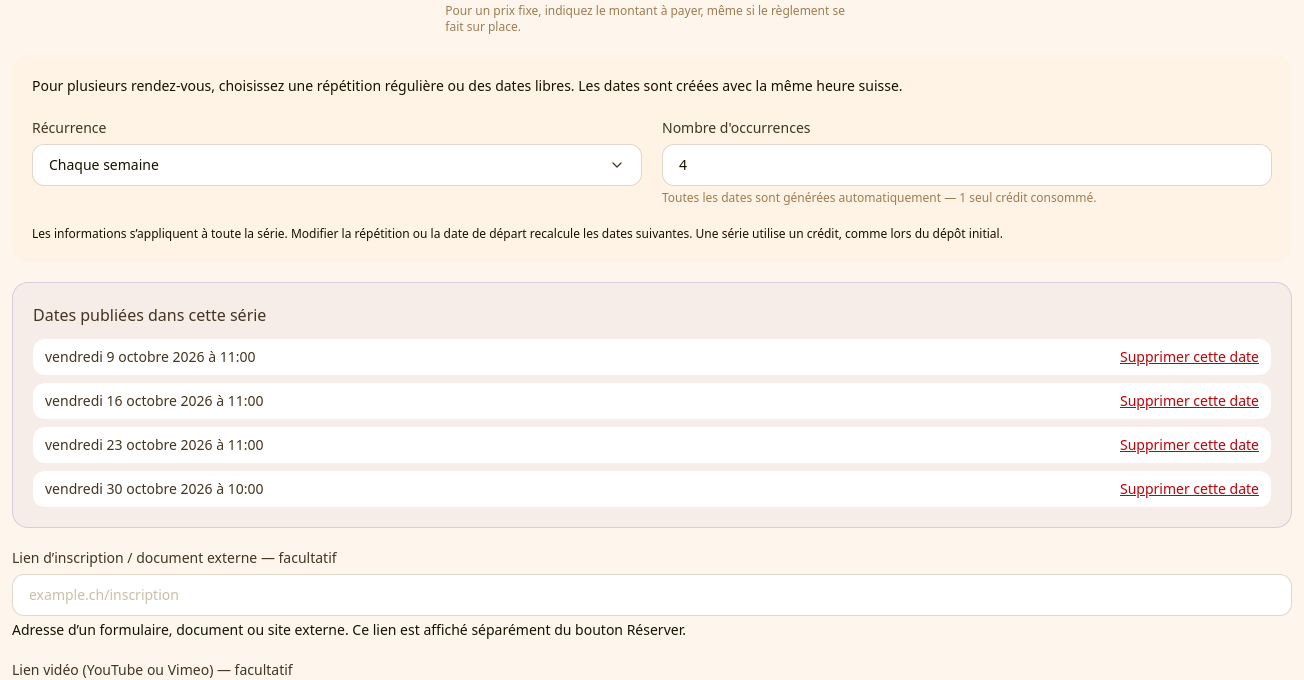
Test case: Régressions signalées par Didier › permet deux suppressions successives de dates sans faux brouillon bloquant
(page scrolled)
Click the button "Supprimer cette date" in the row of "vendredi 16 octobre 2026 à 11:00": (1190,401) [1120,391,1259,411]
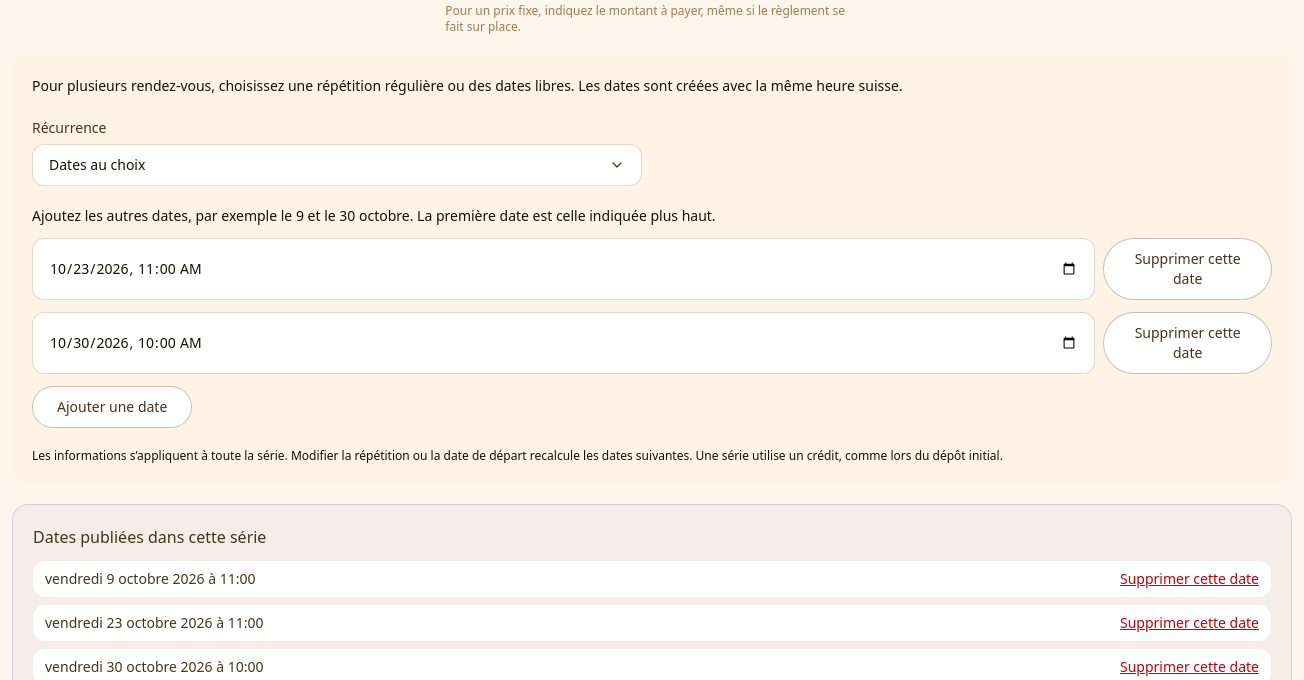
Expected: the number of buttons "Supprimer cette date" is 3
Click the button "Supprimer cette date" in the row of "vendredi 23 octobre 2026 à 11:00": (1190,623) [1120,613,1259,633]
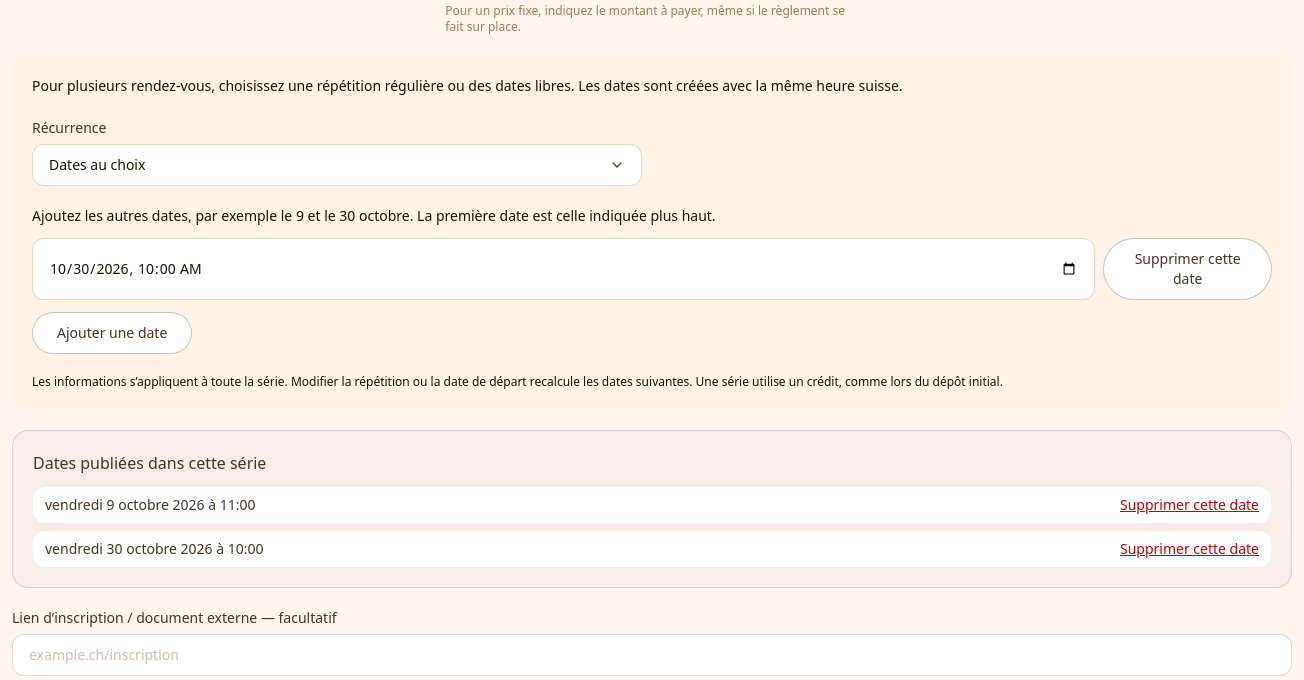
Expected: the number of buttons "Supprimer cette date" is 2, [1120,495,1259,515]; [1120,539,1259,559]
